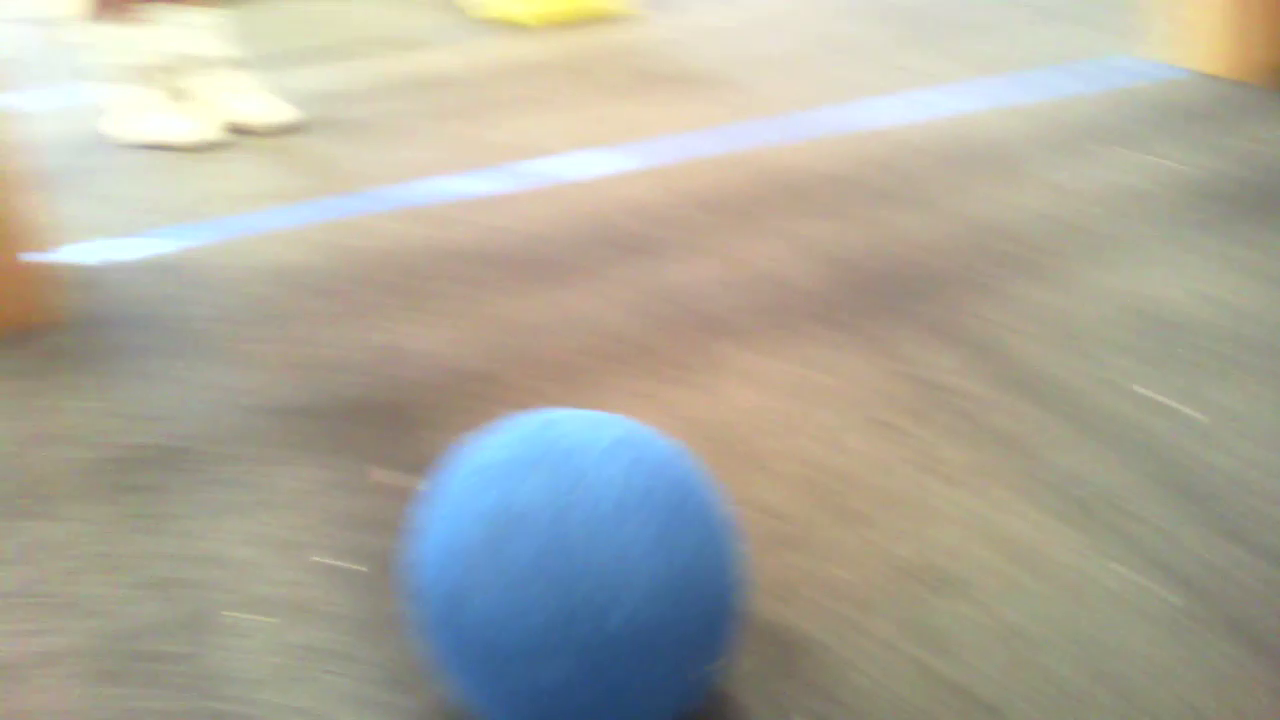blue_cargo: (379, 405, 770, 717)
